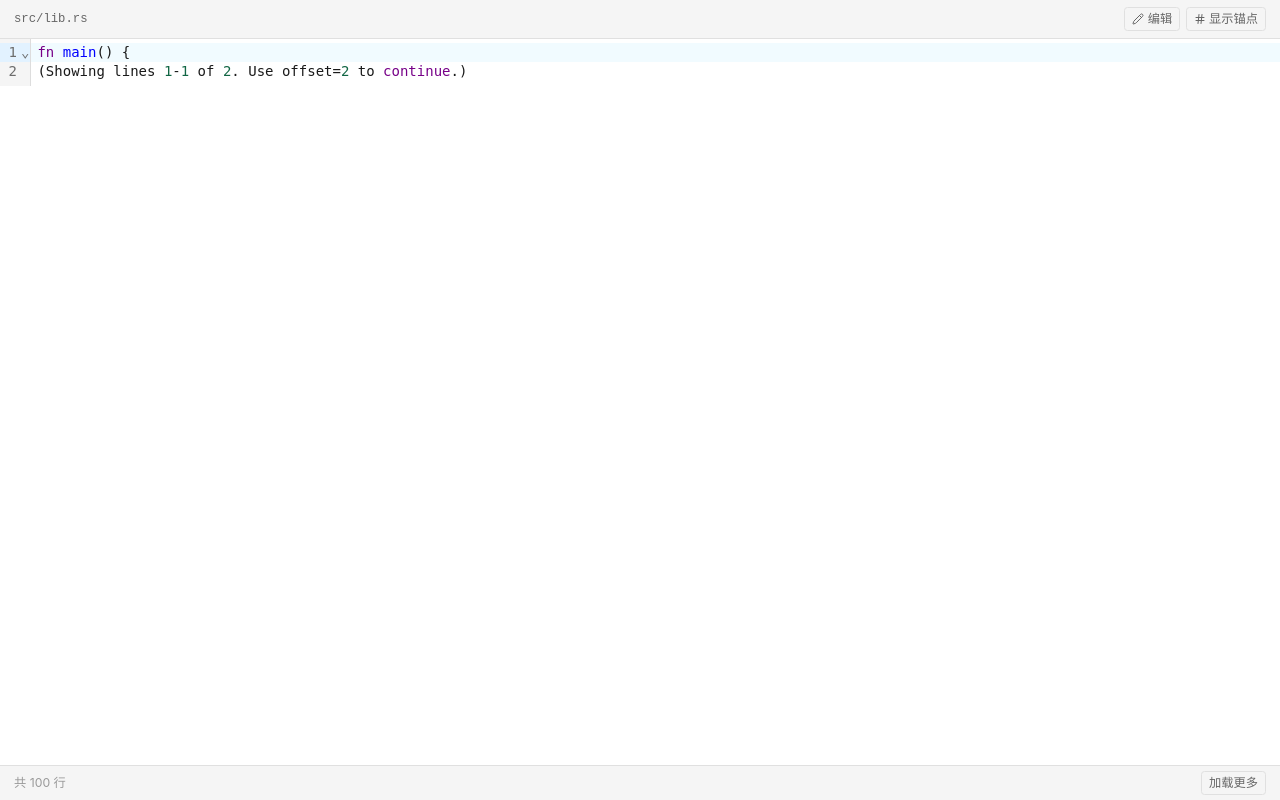
Test: FileViewer › loads the full content before entering edit mode when the file is truncated
The image size is (1280, 800).
Click the button "编辑": (1152, 19) top-left (1124, 7), bottom-right (1180, 31)
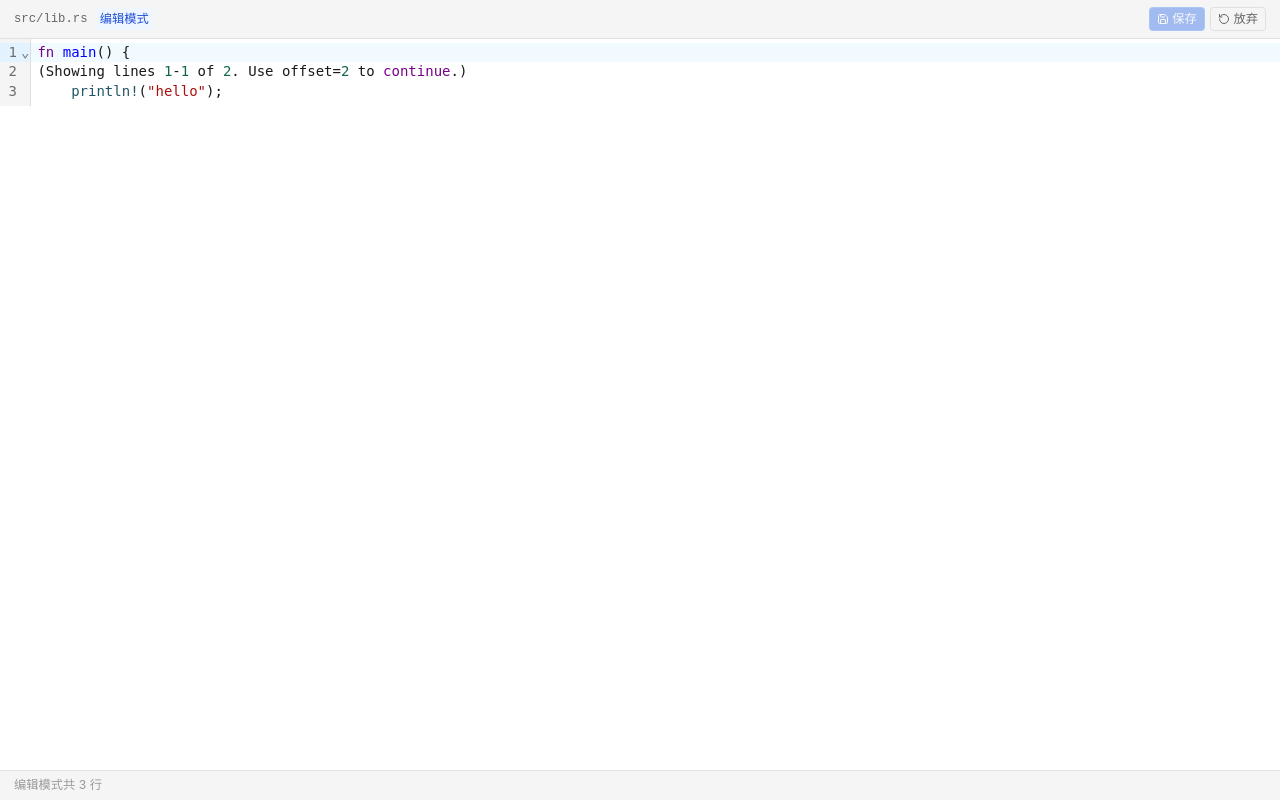
expect the text "编辑模式" is shown: met, box top-left (94, 8), bottom-right (154, 30)
